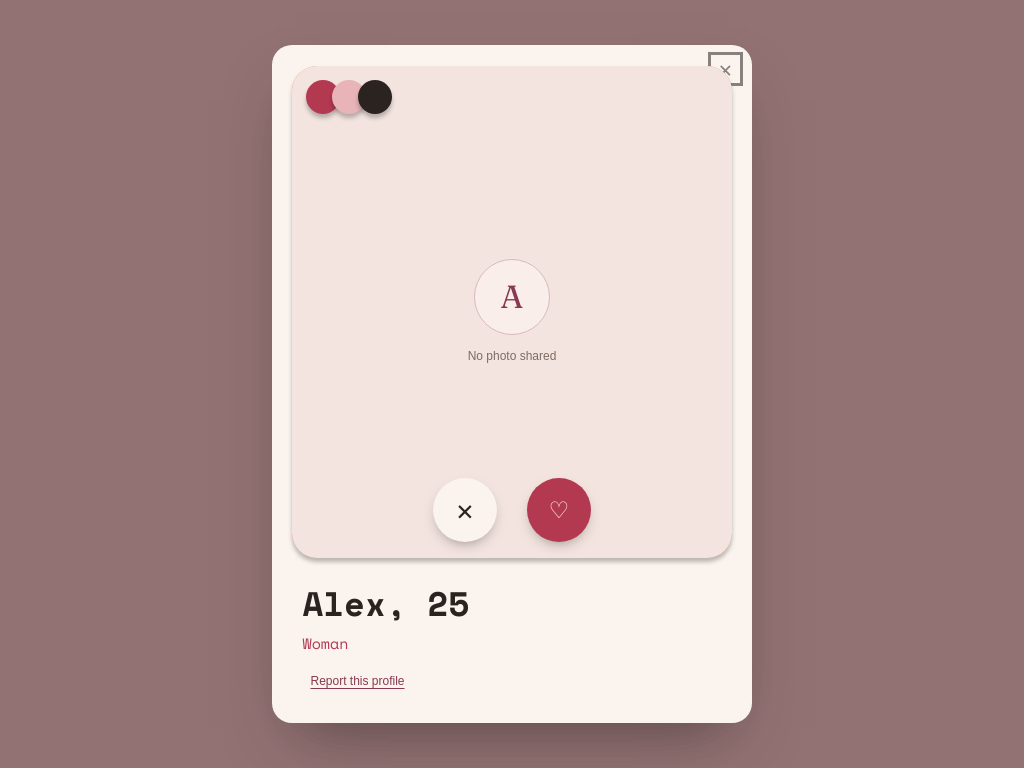
Test: reports the opened profile and shows confirmation only after the server accepts it
This screenshot has width=1024, height=768.
Click the button "Report this profile": point(358, 681) [302,664,412,698]
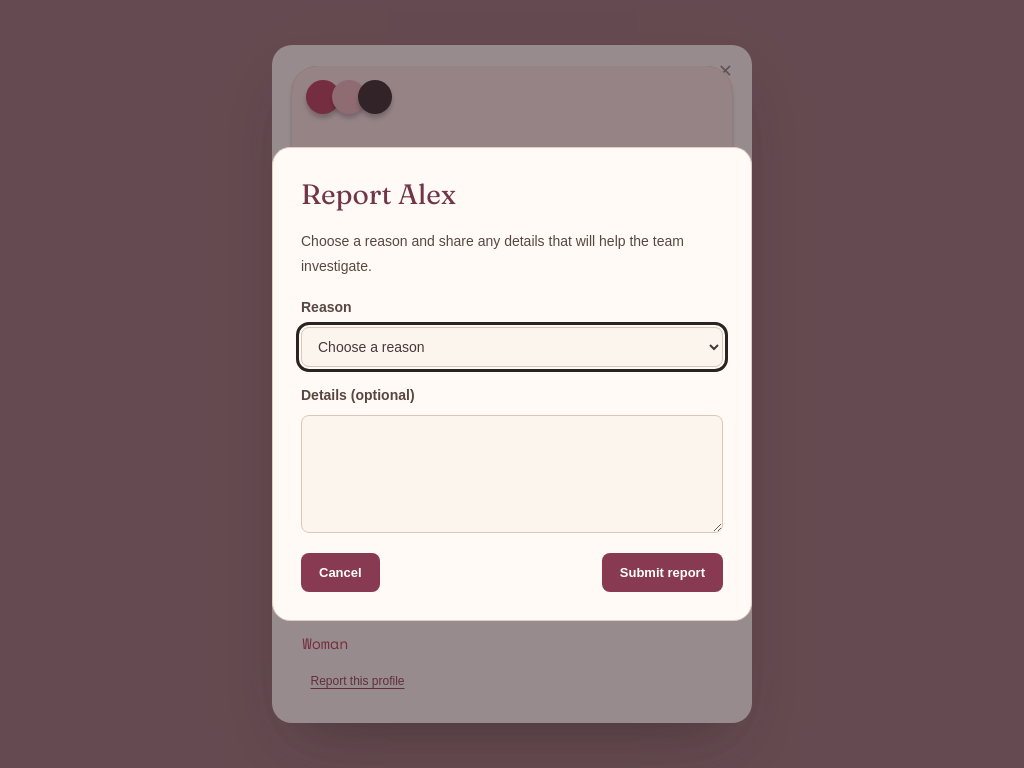
Select "Fake profile" in the dropdown labelled "Reason": point(512, 347) [301,327,723,367]
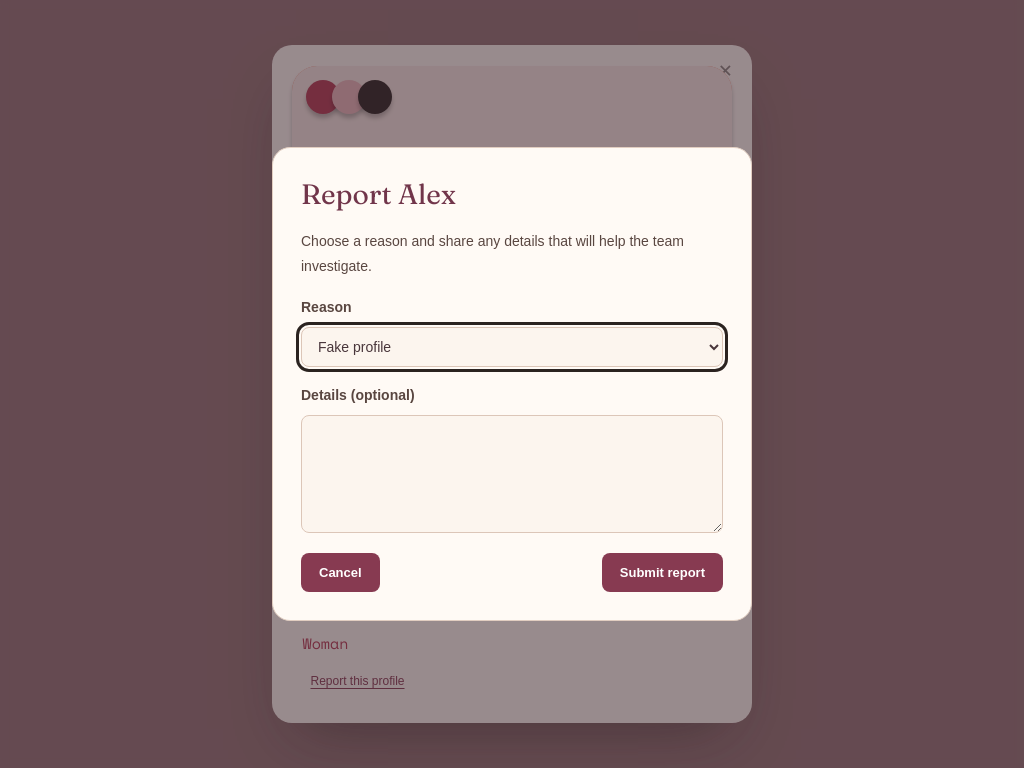
In the text box labelled "Details (optional)": point(512, 474) [301,416,723,533], type "The photos appear stolen"
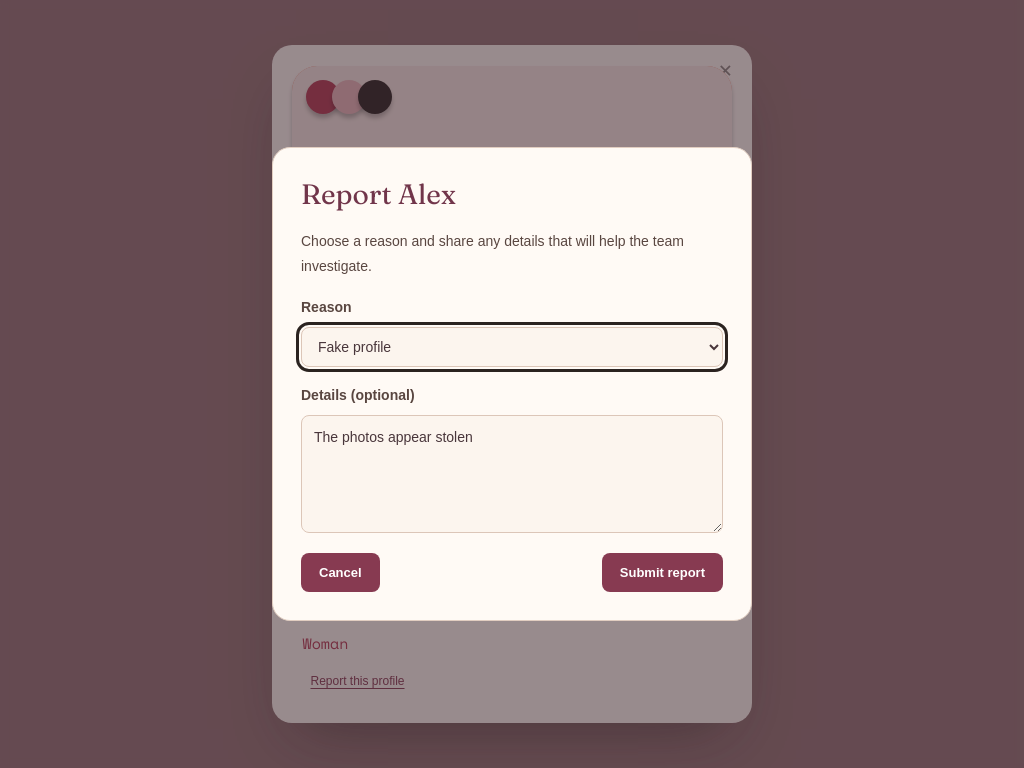
Click the button "Submit report": point(662, 572) [602,553,723,592]
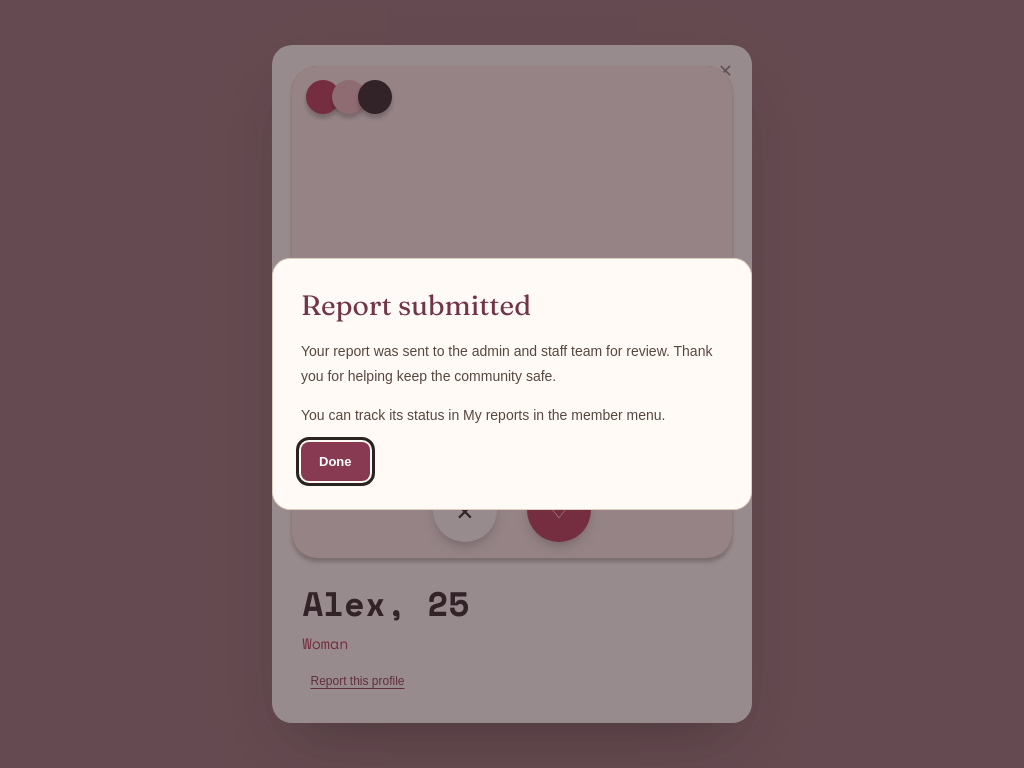
Check: the heading "Report submitted" is shown, box [301,288,531,322]
